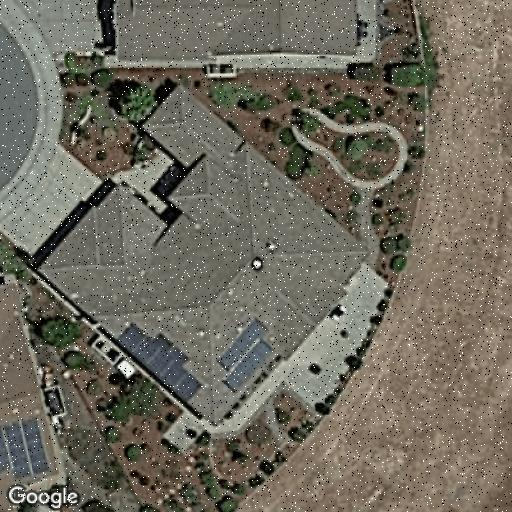solar-panel: (114, 321, 204, 405), (214, 314, 278, 396), (2, 414, 48, 482)
